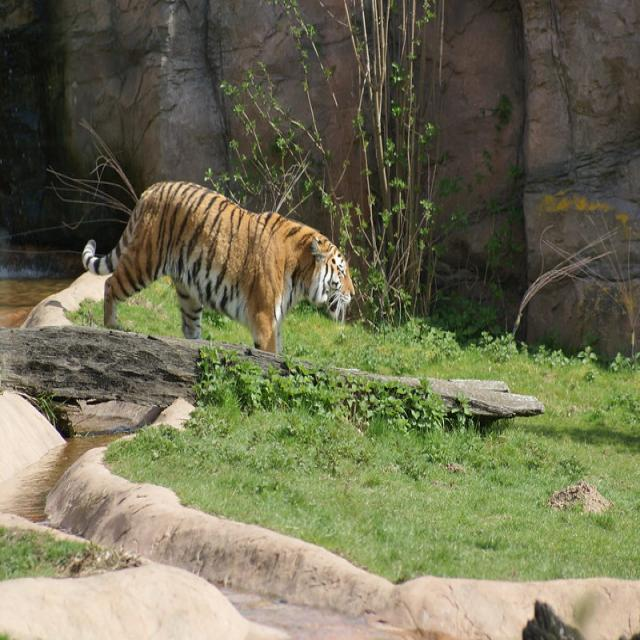Tiger: (80, 175, 357, 369)
